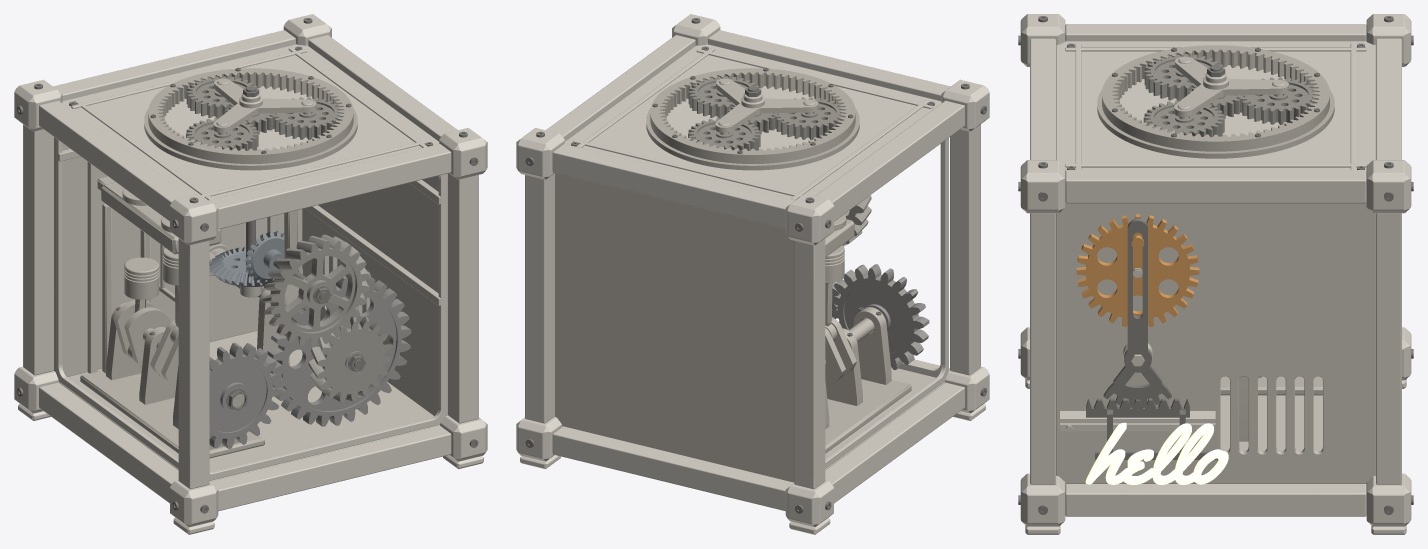
The model's file is engine.glb.
3 views of the same model, side by side, from view 1: azimuth 30°, elevation 25°; view 2: azimuth 150°, elevation 25°; view 3: azimuth 270°, elevation 25° (orthographic). The views are drawn at different scales.
Parts seen in each view (by area): view 1: PanelTop_03, PanelRight_03, PanelBack_03, Ring, Panel_Floor, Beam_01, Beam_09, Beam_04, Beam_06, Beam_05, Spur_Wheel, Helical_Wheel (+36 smaller); view 2: PanelBack_03, PanelTop_03, Ring, Beam_04, Beam_01, Beam_08, Beam_12, Beam_07, Spur_CrankPinion, Beam_03, Beam_02, Beam_06 (+26 smaller); view 3: PanelRight_03, PanelTop_03, Ring, Beam_11, Beam_10, Side_Gear, Beam_09, Beam_12, Beam_03, Side_Hello, Side_Rocker, Beam_06 (+24 smaller).
Part boxes in pixels (x1,y1,x2,y2): PanelTop_03: (62, 44, 439, 198); PanelRight_03: (302, 173, 447, 415); PanelBack_03: (54, 137, 302, 376); Ring: (144, 68, 357, 170); Panel_Floor: (59, 330, 439, 481); Beam_01: (178, 238, 209, 489); Beam_09: (448, 173, 478, 423); Beam_04: (23, 124, 53, 375); Beam_06: (209, 144, 451, 229); Beam_05: (209, 426, 451, 511); Spur_Wheel: (267, 276, 411, 426); Helical_Wheel: (262, 234, 369, 346); PanelBack_03: (555, 173, 794, 482); PanelTop_03: (564, 44, 941, 198); Ring: (646, 68, 859, 170); Beam_04: (794, 238, 825, 489); Beam_01: (950, 124, 980, 375); Beam_08: (552, 144, 794, 229); Beam_12: (525, 173, 554, 423); Beam_07: (552, 426, 793, 511); Spur_CrankPinion: (832, 264, 929, 370); Beam_03: (815, 101, 964, 221); Beam_02: (825, 382, 964, 503); Beam_06: (708, 30, 950, 100); PanelRight_03: (1056, 202, 1375, 483); PanelTop_03: (1056, 41, 1375, 170); Ring: (1097, 45, 1334, 158); Beam_11: (1065, 170, 1366, 203); Beam_10: (1065, 484, 1366, 516); Side_Gear: (1076, 214, 1199, 326); Beam_09: (1030, 213, 1055, 484); Beam_12: (1376, 213, 1401, 484); Beam_03: (1065, 24, 1366, 41); Side_Hello: (1085, 422, 1228, 484); Side_Rocker: (1103, 218, 1171, 407); Beam_06: (1030, 38, 1055, 159).
Bounding box in the file's own units: 2.13 × 2.3 × 2.13.
